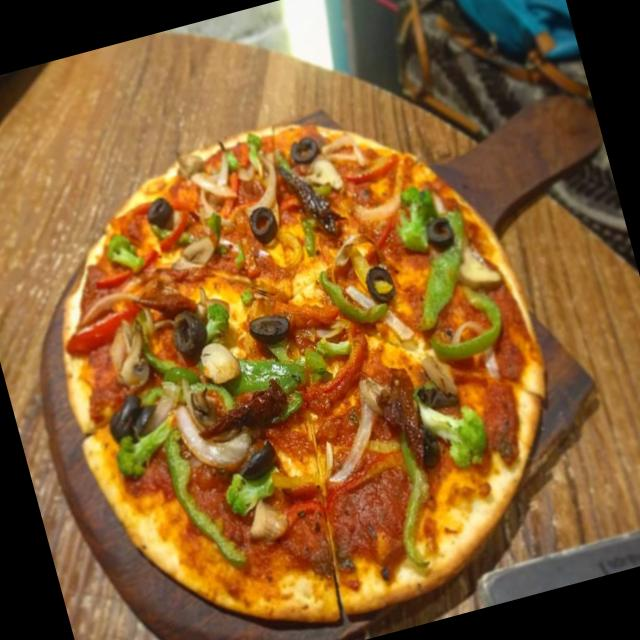black_olives: (104, 386, 158, 443), (170, 299, 210, 358), (246, 308, 294, 350), (406, 422, 448, 469), (360, 264, 401, 310), (244, 200, 282, 244), (140, 192, 176, 234), (235, 438, 277, 474), (420, 212, 455, 254), (286, 132, 321, 166)
peppers: (382, 202, 490, 342), (158, 421, 244, 576), (375, 432, 451, 572), (231, 333, 356, 404), (416, 283, 510, 364), (319, 264, 386, 342), (61, 302, 142, 359), (91, 248, 161, 296), (356, 214, 401, 260), (152, 214, 196, 252), (345, 156, 397, 186), (294, 216, 322, 257), (164, 352, 194, 384), (202, 208, 230, 236)
pizza: (55, 123, 554, 634)
